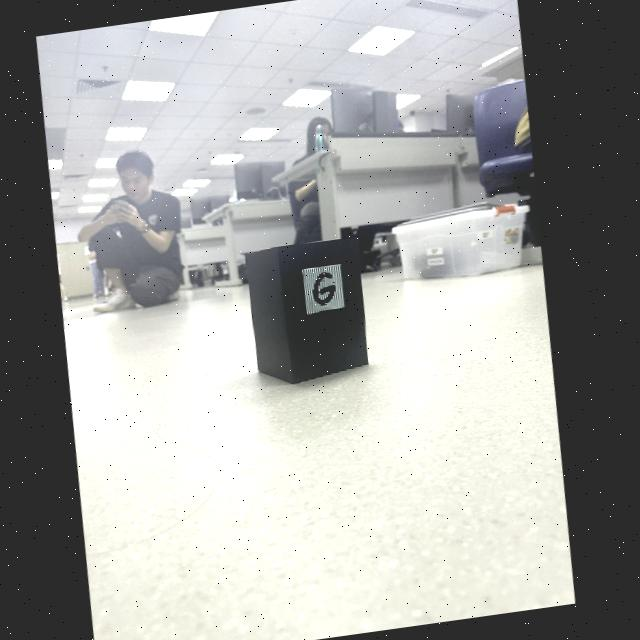G: (316, 273, 339, 305)
